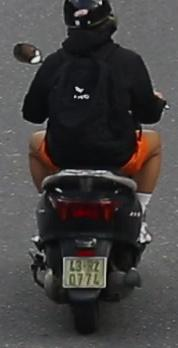LP: (58, 255, 110, 295)
